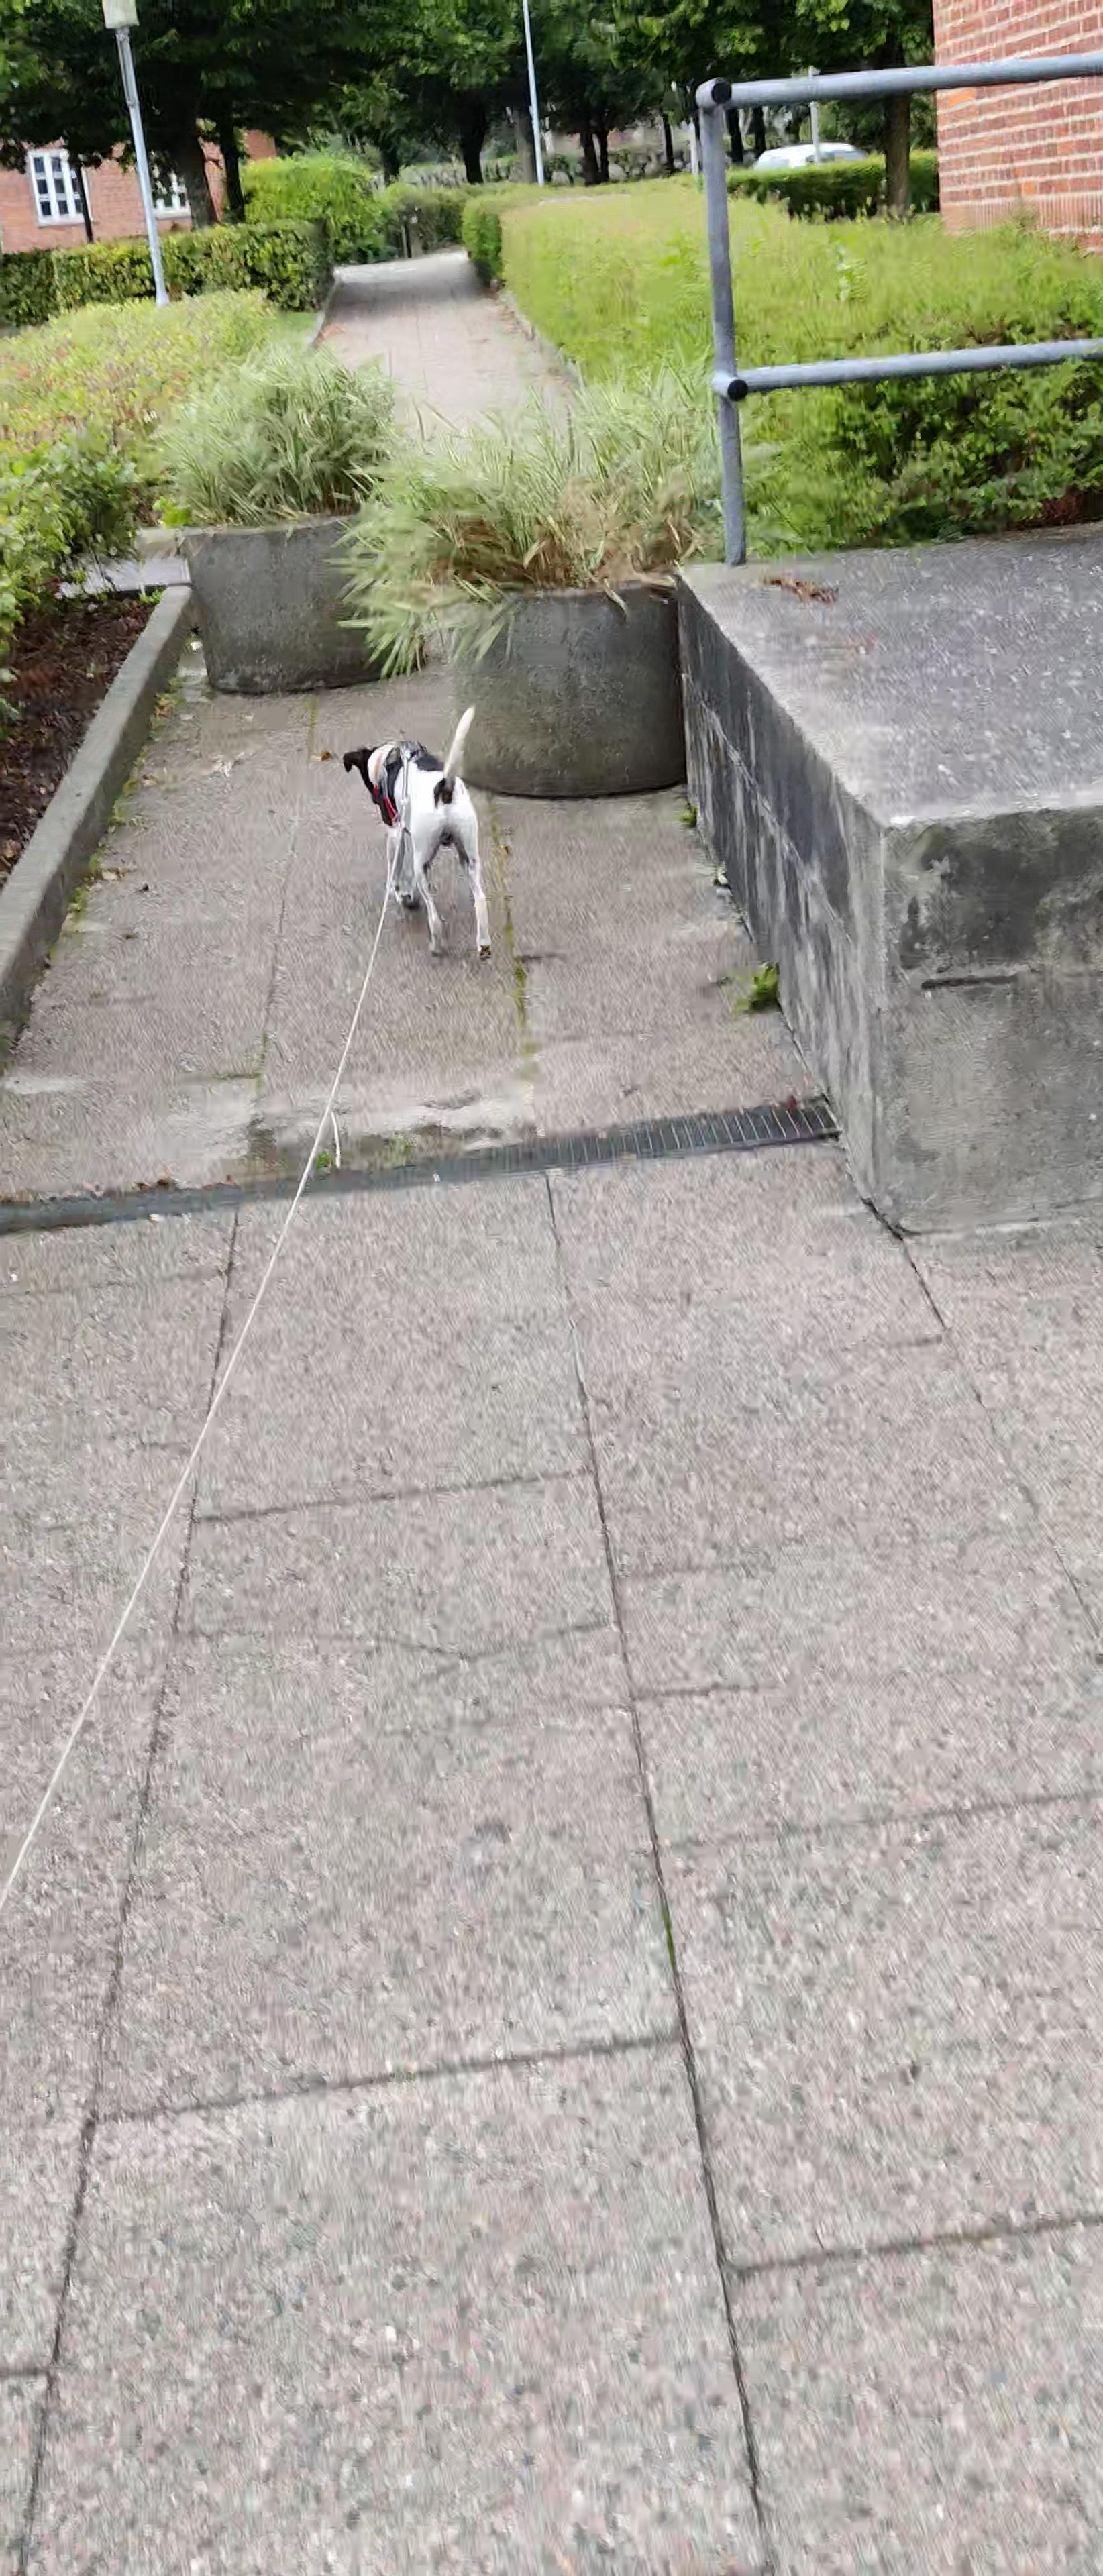Dog: (340, 701, 496, 963)
